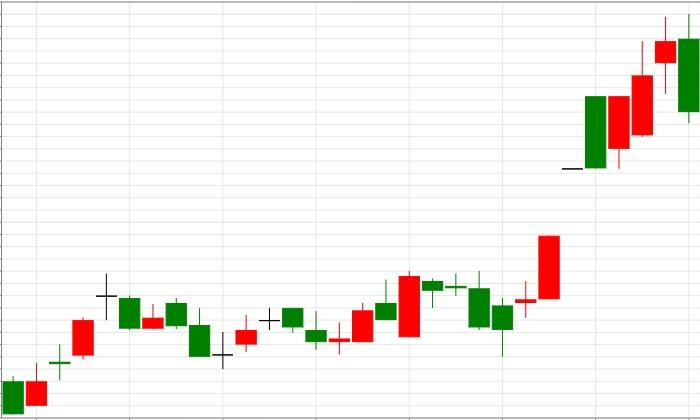bearish_engulfing_fall: (514, 13, 700, 318)
